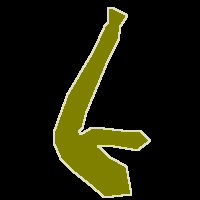tie: (54, 7, 150, 197)
